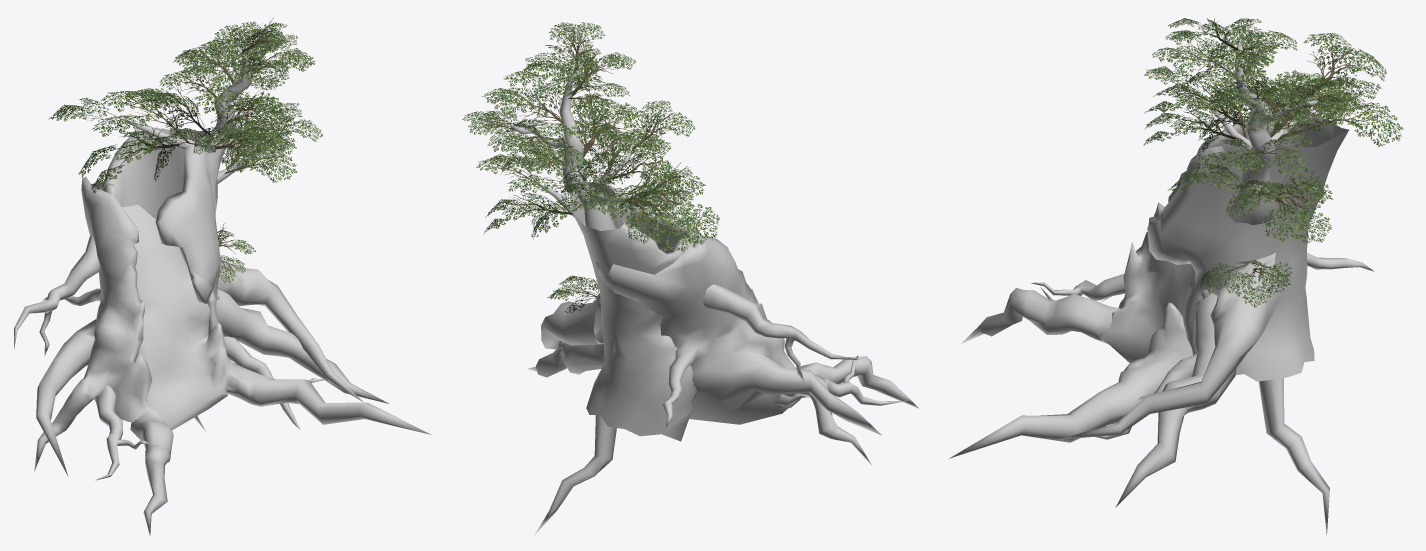
Rendered from Scene_Tree_ShuQiao_2.FBX.
3 renders of one model, left to right at view 1: azimuth 30°, elevation 25°; view 2: azimuth 150°, elevation 25°; view 3: azimuth 270°, elevation 25°, orthographic. The views are drawn at different scales.
Parts seen in each view (by area): view 1: Scene_Tree_ShuQiao_2a, Scene_Tree_ShuQiao_2b; view 2: Scene_Tree_ShuQiao_2a, Scene_Tree_ShuQiao_2b; view 3: Scene_Tree_ShuQiao_2a, Scene_Tree_ShuQiao_2b.
Part boxes in pixels (left/top/right/bottom): Scene_Tree_ShuQiao_2a: left=14, top=34, right=431, bottom=536; Scene_Tree_ShuQiao_2b: left=48, top=17, right=322, bottom=283; Scene_Tree_ShuQiao_2a: left=508, top=59, right=918, bottom=535; Scene_Tree_ShuQiao_2b: left=462, top=22, right=720, bottom=313; Scene_Tree_ShuQiao_2a: left=949, top=19, right=1374, bottom=535; Scene_Tree_ShuQiao_2b: left=1143, top=18, right=1403, bottom=307.
Size of the model in its own units: 5047 by 6295 by 4939.
